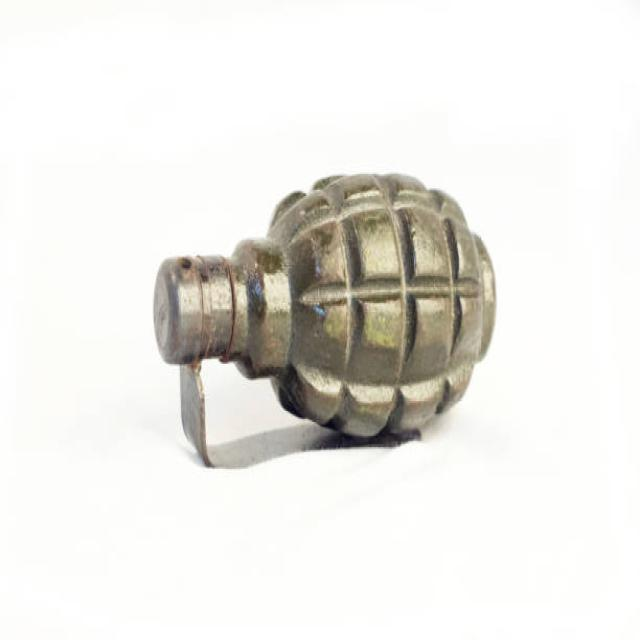grenade: (149, 166, 504, 458)
